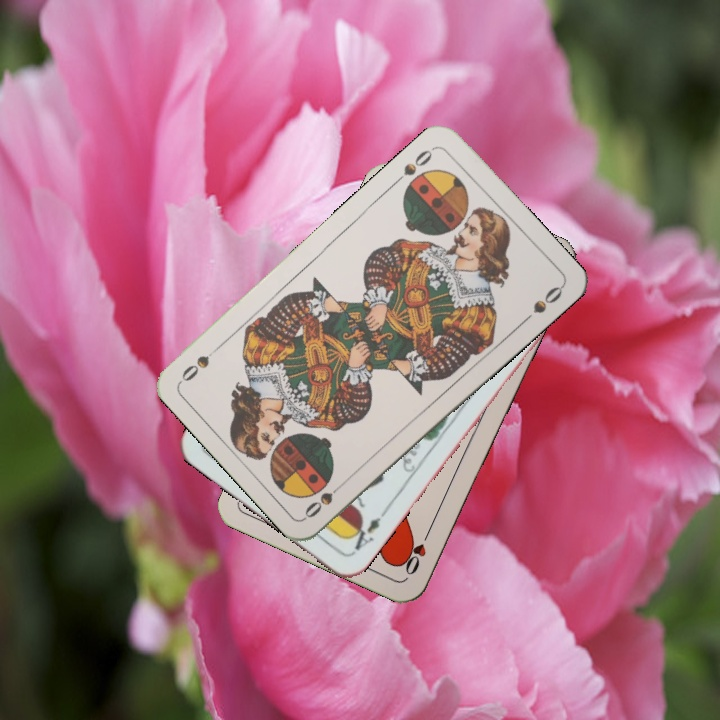EA: (345, 506, 390, 554)
HO: (401, 523, 434, 578)
SO: (300, 476, 349, 521), (390, 142, 439, 187)
